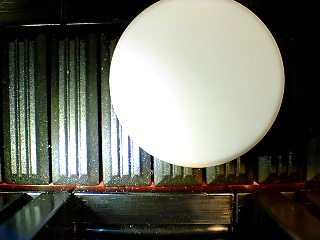BLANK: (108, 1, 285, 168)
